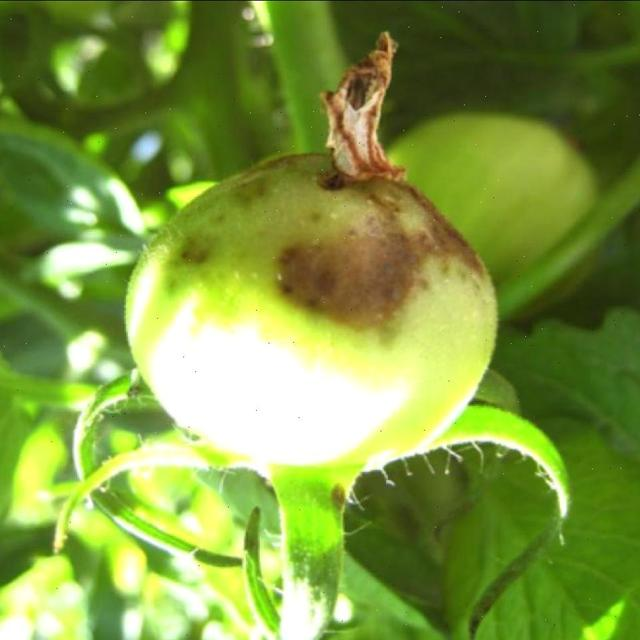Blossom End Rot Fruit: (172, 112, 324, 234)
